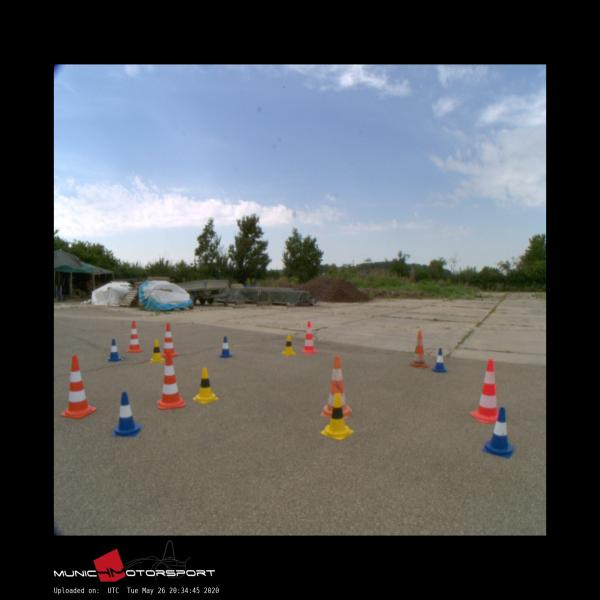blue_cone: (482, 407, 513, 457), (112, 392, 141, 436), (432, 348, 446, 372), (108, 338, 121, 360), (218, 336, 231, 357)
large_orange_cone: (60, 355, 96, 418), (320, 356, 352, 418), (470, 360, 501, 421), (157, 350, 185, 408), (408, 330, 428, 368), (126, 320, 142, 352), (300, 320, 315, 352), (162, 323, 176, 356)
yellow_cone: (320, 393, 353, 439), (192, 366, 218, 403), (149, 340, 164, 361), (281, 334, 296, 355)
